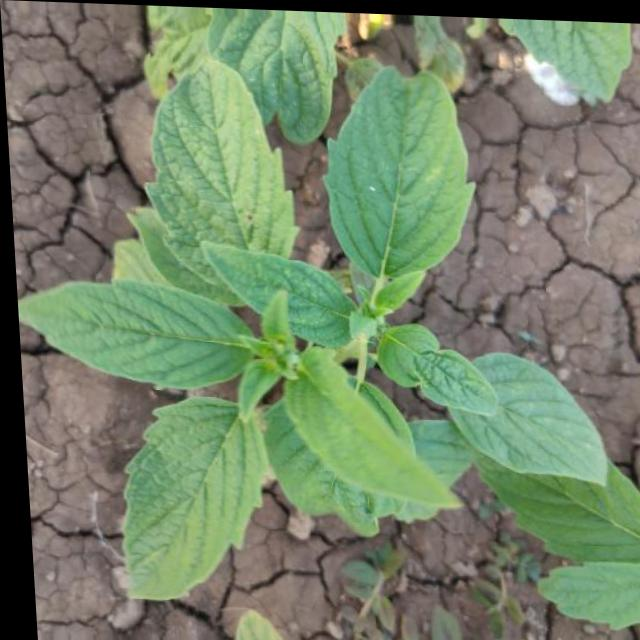crop: (1, 3, 632, 621)
